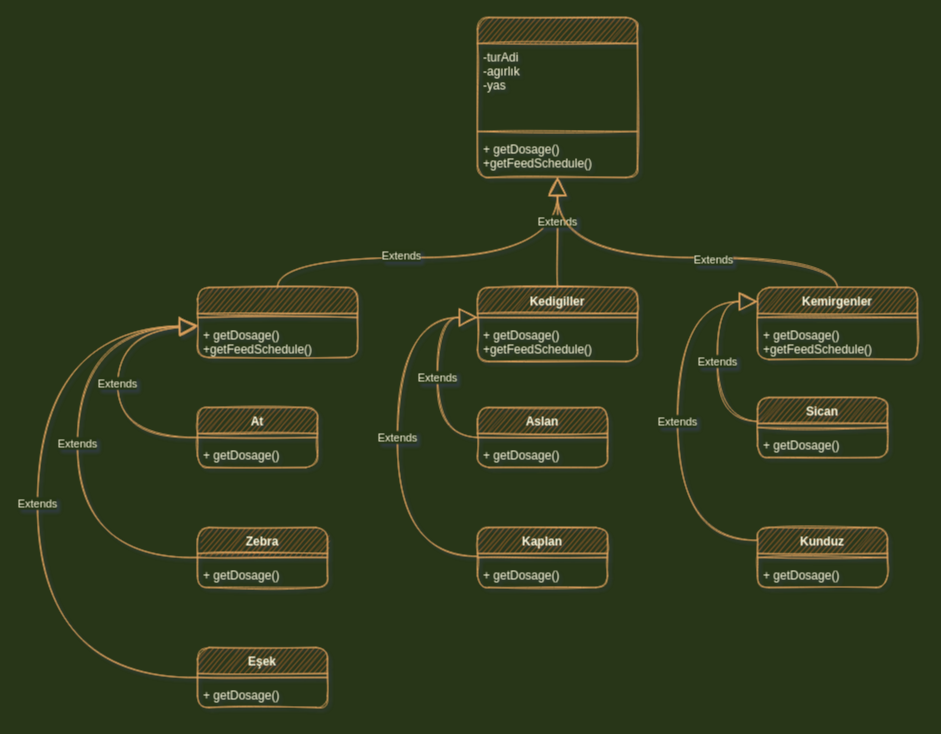
This 941x734 diagram has some shape labels left out. The box of each missing label's shape, as (x1, y1, x2, y2) in pixels:
Atlar: (196, 286, 358, 358)
Hayvanlar: (476, 16, 638, 178)
